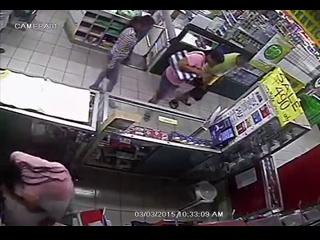Normal: (149, 50, 241, 108), (90, 15, 156, 94)
